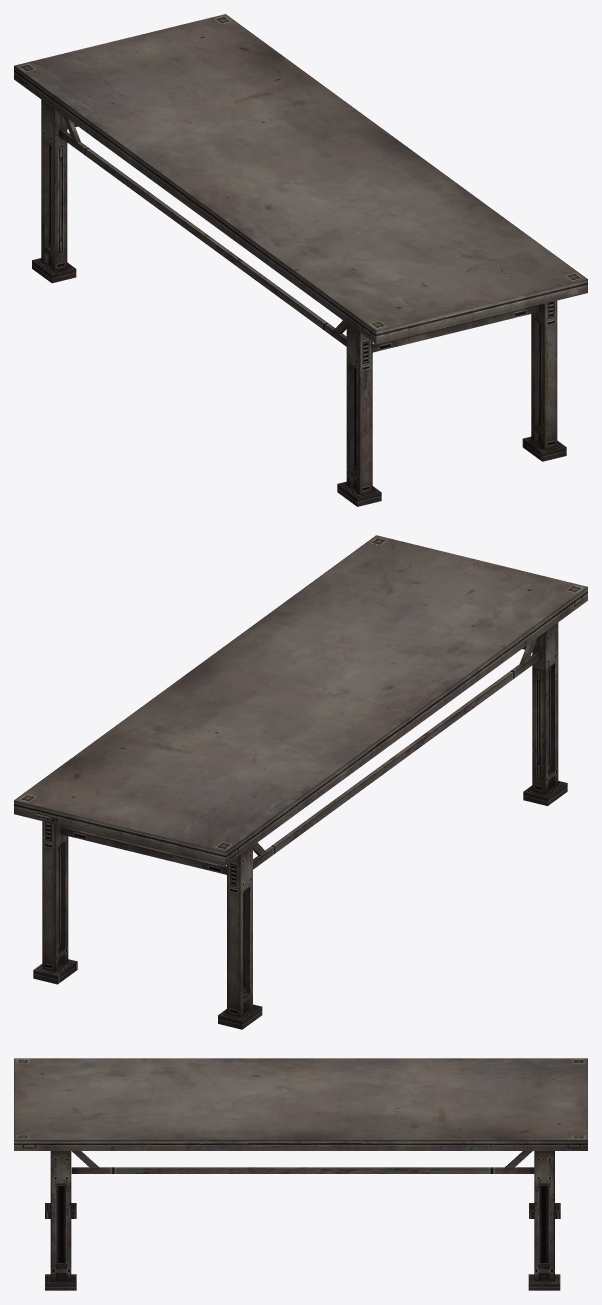
The model's file is table_lab_med_long.dae.
3 views of the same model, one above another, from view 1: azimuth 30°, elevation 25°; view 2: azimuth 150°, elevation 25°; view 3: azimuth 270°, elevation 25° (orthographic). The views are drawn at different scales.
Visible parts, largest first — view 1: Mesh; view 2: Mesh; view 3: Mesh.
Boxes of the visible parts, x1,y1,x2,y2 form: Mesh: [14, 14, 587, 506]; Mesh: [14, 535, 587, 1029]; Mesh: [14, 1058, 587, 1290].
Size of the model in its own units: 1.22 by 1.05 by 3.63.
